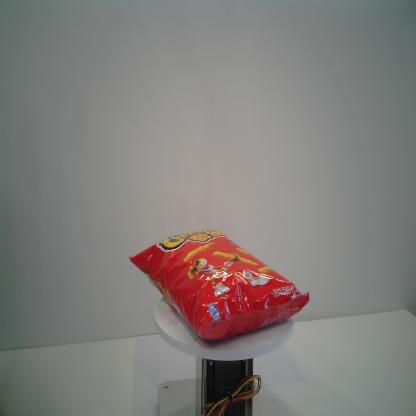Puffed Food: (126, 228, 311, 344)
